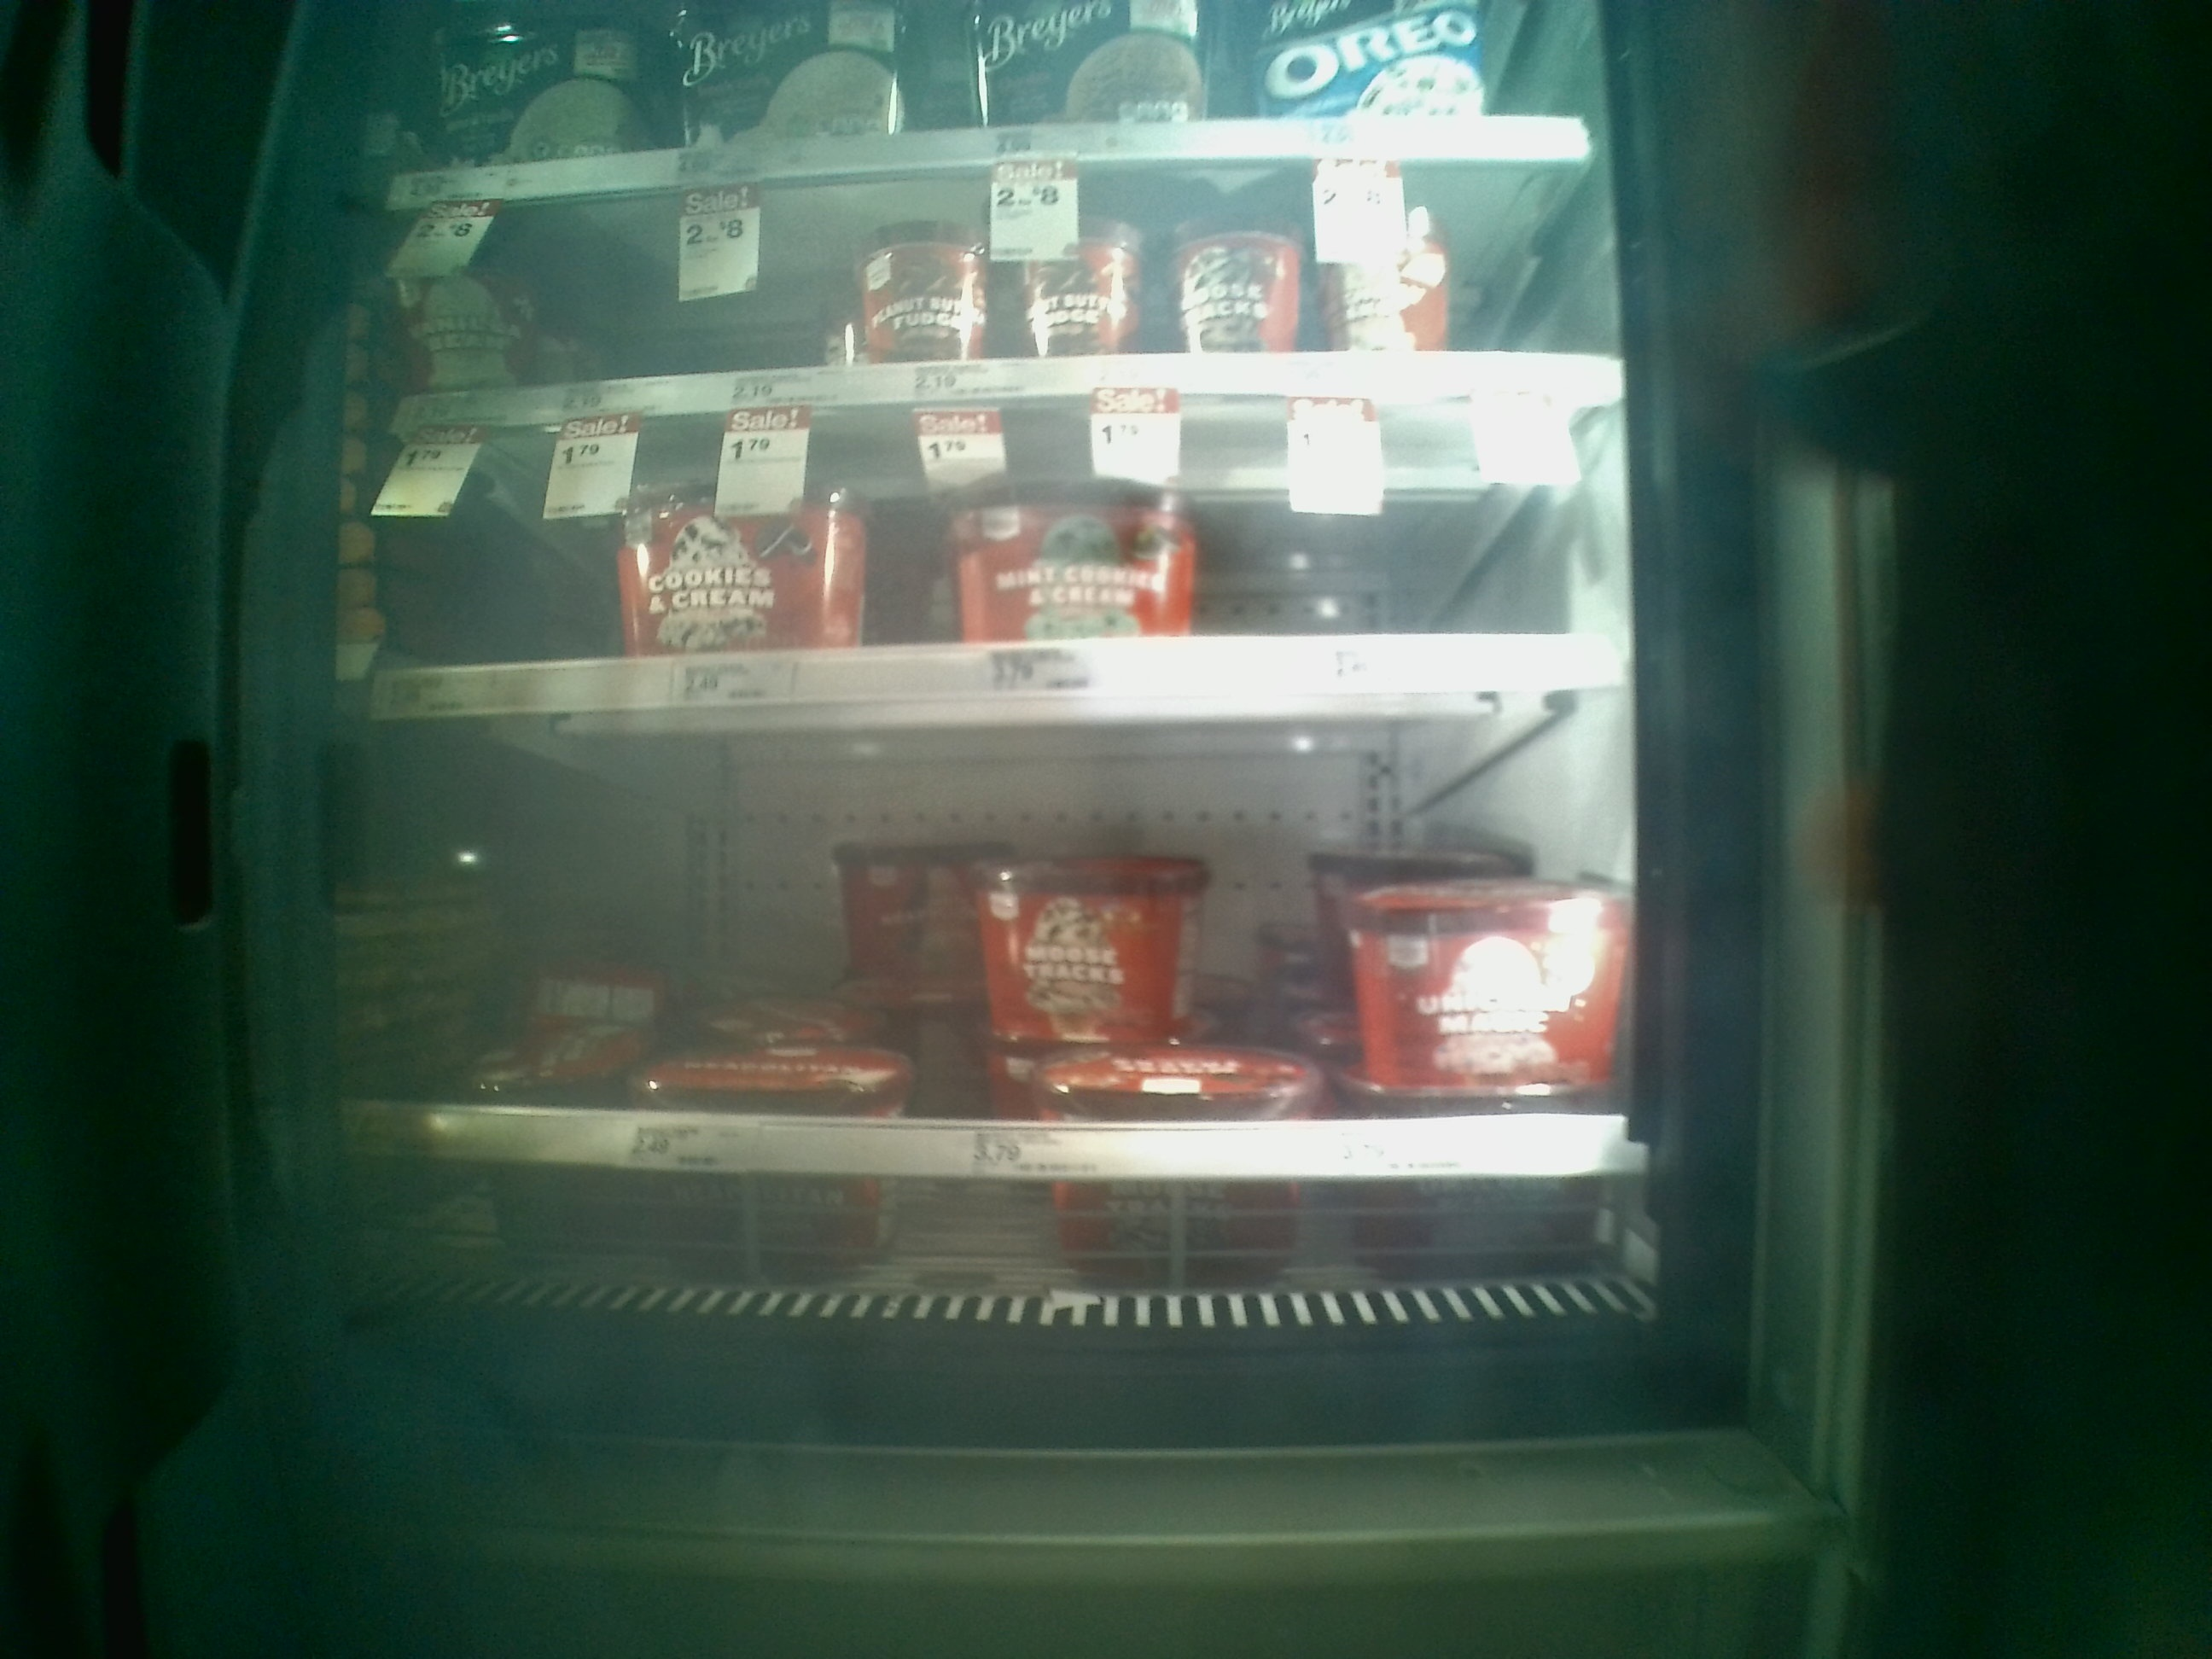shelf: (348, 697, 1641, 1201), (359, 408, 1623, 697), (355, 145, 1634, 404)
